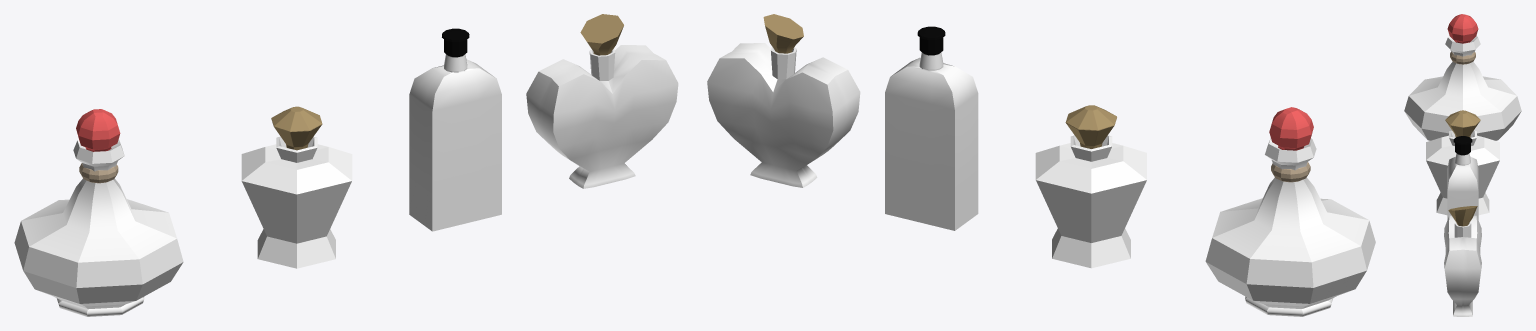
File: potions.fbx
3 renders of one model, left to right at view 1: azimuth 30°, elevation 25°; view 2: azimuth 150°, elevation 25°; view 3: azimuth 270°, elevation 25°, orthographic. The views are drawn at different scales.
Visible parts, largest first — view 1: bottle (×2), Bottle (×2), Lid (×2), lid, Cork, ring; view 2: bottle (×2), Bottle (×2), Lid (×2), lid, Cork, ring; view 3: bottle (×2), Bottle (×2), Lid (×2), lid, Cork, ring.
Boxes of the visible parts, left/top/right/bottom form: bottle (×2): left=14, top=45, right=678, bottom=316; Bottle (×2): left=241, top=54, right=501, bottom=268; Lid (×2): left=271, top=28, right=469, bottom=150; lid: left=76, top=109, right=120, bottom=151; Cork: left=580, top=14, right=623, bottom=55; ring: left=79, top=163, right=118, bottom=183; bottle (×2): left=707, top=43, right=1375, bottom=316; Bottle (×2): left=885, top=52, right=1146, bottom=268; Lid (×2): left=917, top=26, right=1116, bottom=148; lid: left=1269, top=107, right=1313, bottom=150; Cork: left=763, top=14, right=803, bottom=53; ring: left=1271, top=162, right=1310, bottom=182; bottle (×2): left=1404, top=36, right=1521, bottom=316; Bottle (×2): left=1426, top=130, right=1499, bottom=219; Lid (×2): left=1445, top=110, right=1480, bottom=155; lid: left=1447, top=14, right=1478, bottom=43; Cork: left=1448, top=206, right=1477, bottom=226; ring: left=1450, top=52, right=1475, bottom=64.
Bounding box in the file's own units: 10.73 × 3.05 × 2.53.
